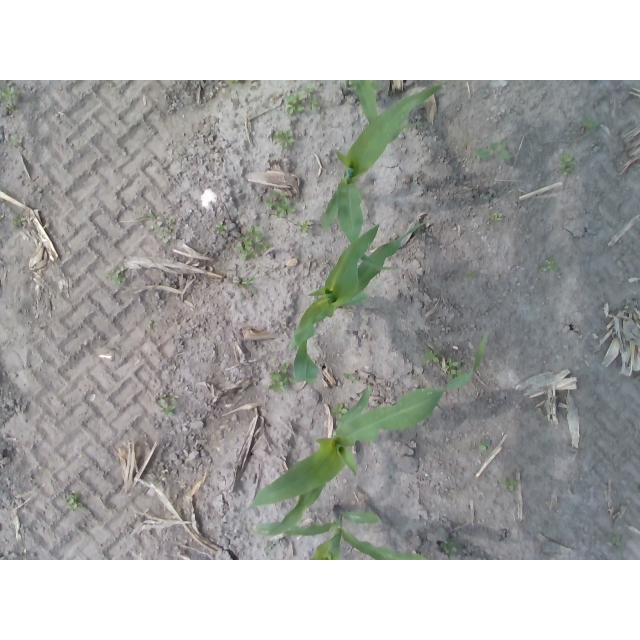Maize: (238, 332, 490, 539), (291, 224, 426, 393), (317, 86, 439, 271), (255, 506, 429, 560), (353, 80, 380, 122)
Weeds: (242, 227, 265, 258), (479, 143, 509, 160), (152, 222, 169, 242), (276, 200, 295, 217), (268, 374, 288, 390), (302, 89, 318, 108), (539, 257, 560, 271), (277, 130, 294, 147), (158, 399, 174, 417), (559, 154, 575, 171), (288, 98, 304, 115), (583, 116, 599, 132), (65, 490, 79, 508), (424, 349, 440, 364), (441, 541, 457, 556), (445, 358, 459, 374), (0, 87, 16, 101), (502, 477, 516, 491), (111, 272, 125, 285), (216, 221, 228, 235), (332, 404, 344, 418), (480, 439, 493, 449), (278, 364, 290, 373), (139, 213, 154, 220), (464, 272, 477, 280), (303, 222, 314, 231), (491, 213, 502, 221), (12, 219, 22, 226)
